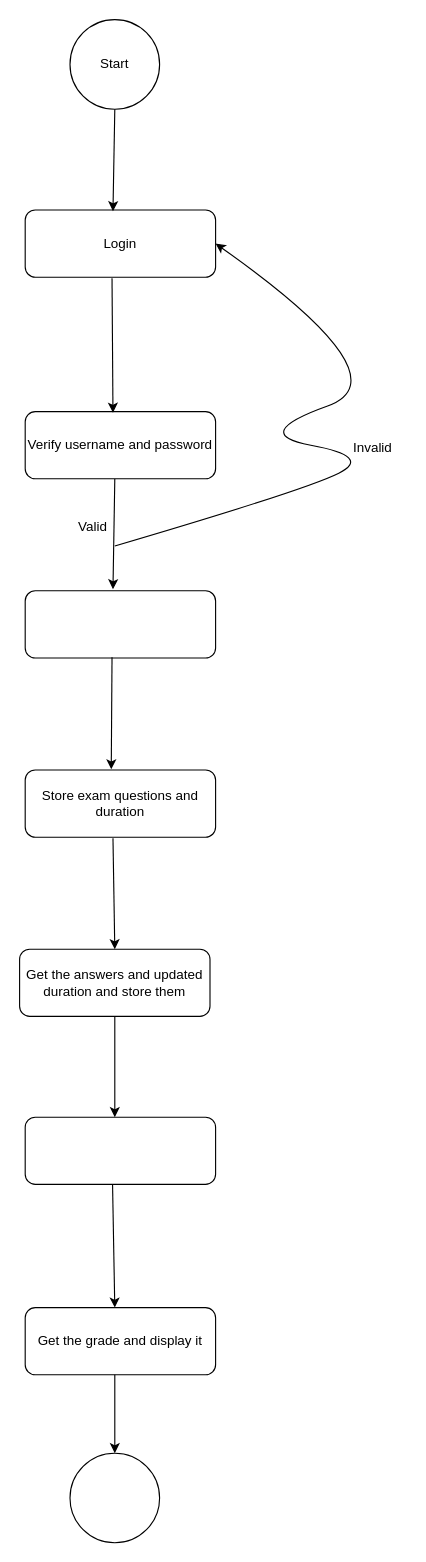
This 426x1562 diagram has some shape labels left out. The shapes that lost their labels are listed below. From the top down, each one's centre as x and y in pixels, then its label:
At [120,624]: "Get questions and duration from faculty".
At [120,1150]: "Collect the answers".
At [114,1497]: "Stop".
